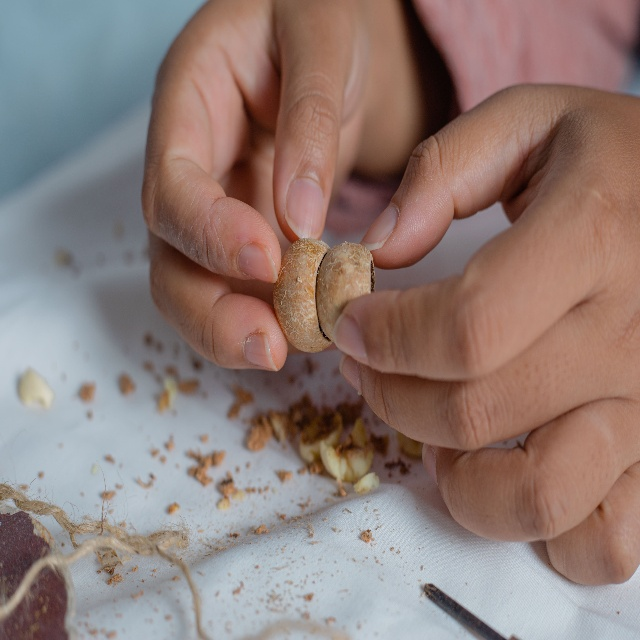Sin_guantes: (332, 83, 640, 586), (142, 0, 371, 369)
